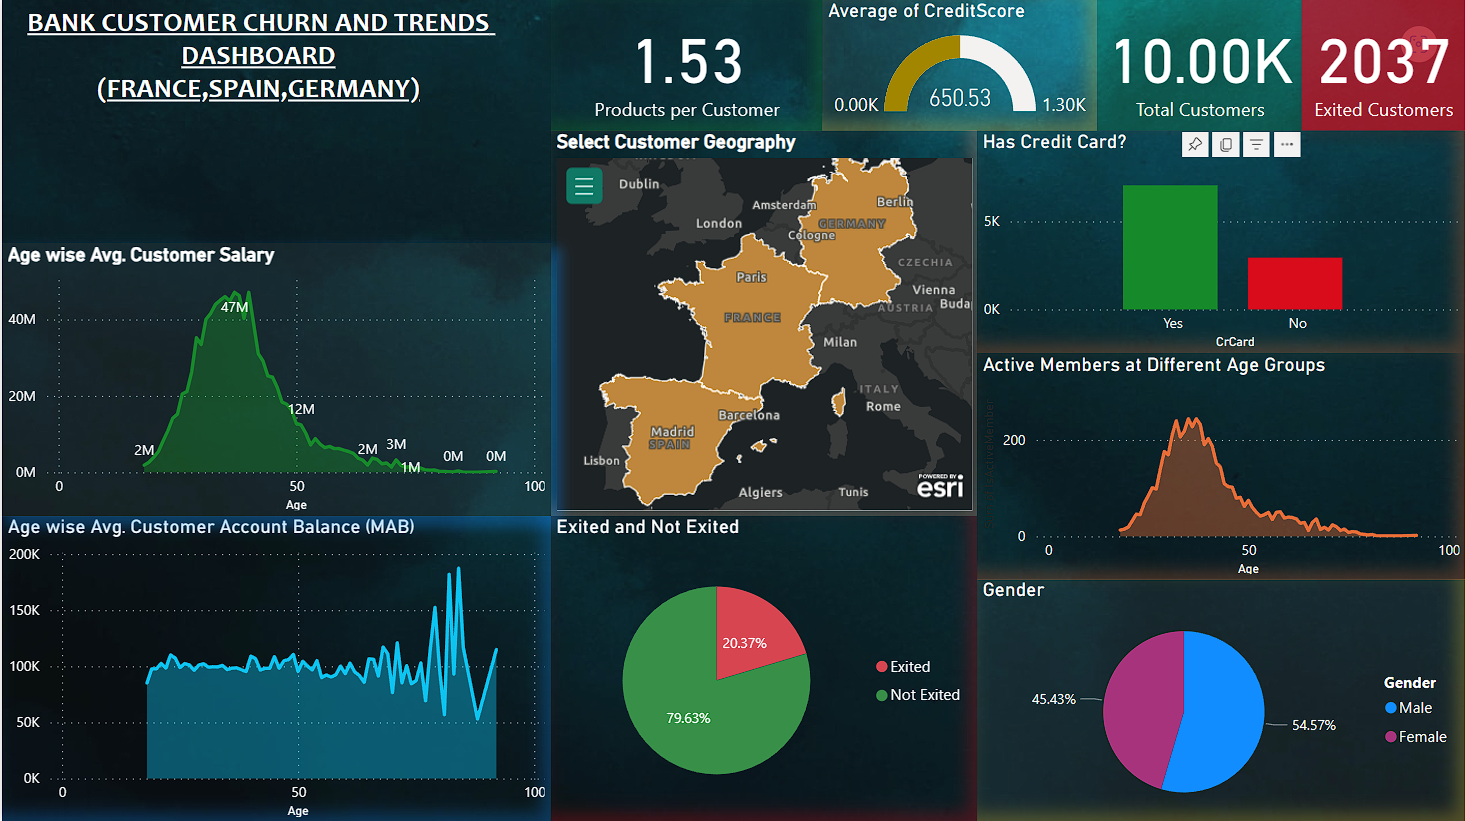

Layout of this report page (visuals, bound fields, positions):
{"tool":"powerbi","page":{"name":"Page 1","canvas":[1280,720],"ordinal":0},"visuals":[{"type":"card","fields":{"Values":["CountNonNull(Churn Modeling.CustomerId)"]},"box":[957.6,0,179.1,114.9],"z":0},{"type":"card","fields":{"Values":["Sum(Churn Modeling.Exited Count)"]},"box":[1136.7,0,143.1,114.9],"z":1000},{"type":"gauge","fields":{"Y":["Avg(Churn Modeling.CreditScore)"]},"box":[717.6,0,240,114.9],"z":2000},{"type":"esriVisual","title":"Geography of Customers","fields":{"Location":["Churn Modeling.Geography"]},"box":[479.9,114.9,372.9,336.9],"z":3000},{"type":"stackedAreaChart","title":"Age wise Avg. Customer Account Balance (MAB)","fields":{"Y":["Avg(Churn Modeling.EstimatedSalary)"],"Category":["Churn Modeling.Age"]},"box":[0,451.8,479.9,268.1],"z":5000},{"type":"areaChart","title":"Age wise Avg. Customer Salary ","fields":{"Y":["Sum(Churn Modeling.EstimatedSalary)"],"Category":["Churn Modeling.Age"]},"box":[0,212.9,479.9,238.8],"z":6000},{"type":"pieChart","title":"Gender","fields":{"Category":["Churn Modeling.Gender"],"Y":["CountNonNull(Churn Modeling.Gender)"]},"box":[852.8,507,427,212.9],"z":7000},{"type":"areaChart","title":"Active Members at Different Age Groups","fields":{"Category":["Churn Modeling.Age"],"Y":["Sum(Churn Modeling.IsActiveMember)"]},"box":[852.8,309.8,427,198.3],"z":7001},{"type":"card","fields":{"Values":["Avg(Churn Modeling.NumOfProducts)"]},"box":[479.9,0,237.7,114.9],"z":7002},{"type":"clusteredColumnChart","title":"Has Credit Card?","fields":{"Category":["Churn Modeling.CrCard"],"Y":["CountNonNull(Churn Modeling.CrCard)"]},"box":[852.8,114.9,427,194.9],"z":7004},{"type":"pieChart","fields":{"Y":["Sum(Churn Modeling.Exited Count)","Sum(Churn Modeling.Not Exited)"]},"box":[479.9,451.8,372.9,268.1],"z":7005},{"type":"textbox","box":[0,0,448.4,149.8],"z":7006}]}

Visuals, with their boxes in screenshot pixels (x1, y1, x2, y2), scaled from the page's 1280x720 canvas onto the 1465x821 screenshot:
card - CountNonNull(Churn Modeling.CustomerId): {"x1": 1096, "y1": 0, "x2": 1301, "y2": 131}
card - Sum(Churn Modeling.Exited Count): {"x1": 1301, "y1": 0, "x2": 1464, "y2": 131}
gauge - Avg(Churn Modeling.CreditScore): {"x1": 821, "y1": 0, "x2": 1096, "y2": 131}
"Geography of Customers" esriVisual: {"x1": 549, "y1": 131, "x2": 976, "y2": 515}
"Age wise Avg. Customer Account Balance (MAB)" stackedAreaChart: {"x1": 0, "y1": 515, "x2": 549, "y2": 820}
"Age wise Avg. Customer Salary " areaChart: {"x1": 0, "y1": 243, "x2": 549, "y2": 515}
"Gender" pieChart: {"x1": 976, "y1": 578, "x2": 1464, "y2": 820}
"Active Members at Different Age Groups" areaChart: {"x1": 976, "y1": 353, "x2": 1464, "y2": 579}
card - Avg(Churn Modeling.NumOfProducts): {"x1": 549, "y1": 0, "x2": 821, "y2": 131}
"Has Credit Card?" clusteredColumnChart: {"x1": 976, "y1": 131, "x2": 1464, "y2": 353}
pieChart - Sum(Churn Modeling.Exited Count) x Sum(Churn Modeling.Not Exited): {"x1": 549, "y1": 515, "x2": 976, "y2": 820}
textbox: {"x1": 0, "y1": 0, "x2": 513, "y2": 171}
